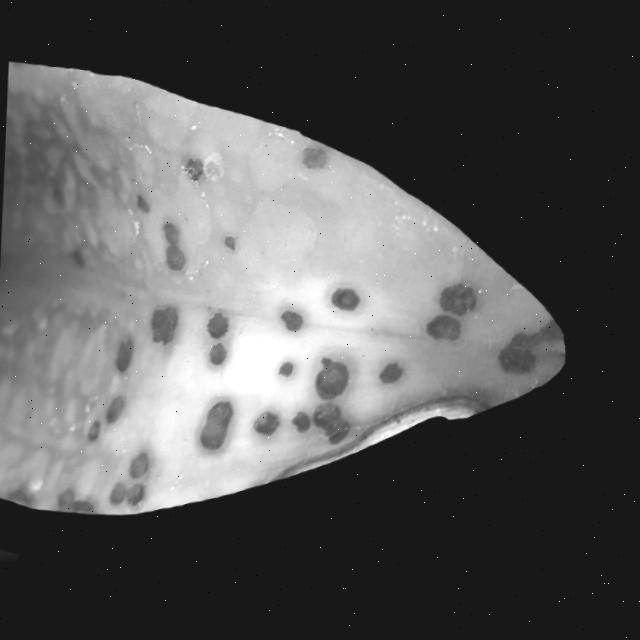mite: (310, 406, 352, 449), (322, 283, 367, 323), (313, 360, 350, 404), (148, 306, 180, 348), (496, 351, 538, 383), (424, 320, 463, 348), (328, 290, 361, 316), (113, 339, 135, 374), (252, 413, 281, 439), (205, 313, 231, 342), (376, 365, 405, 390), (103, 395, 127, 425), (126, 452, 151, 480), (278, 312, 304, 336), (206, 344, 229, 369), (289, 413, 312, 438)
